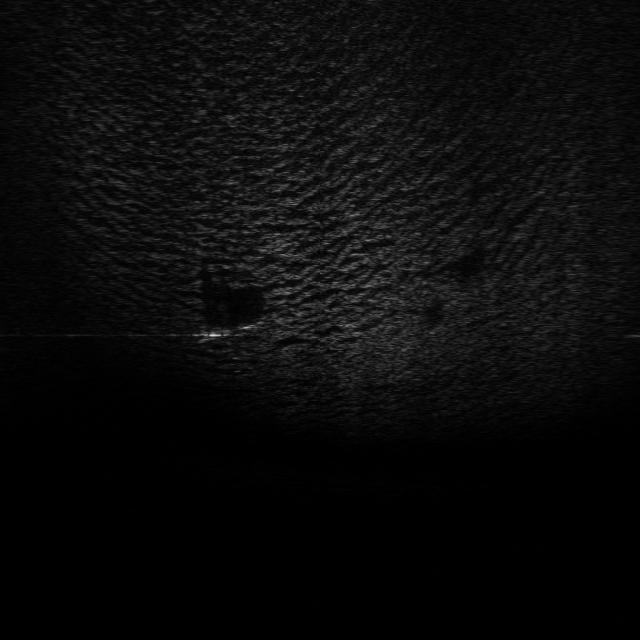plane: (192, 312, 267, 344)
